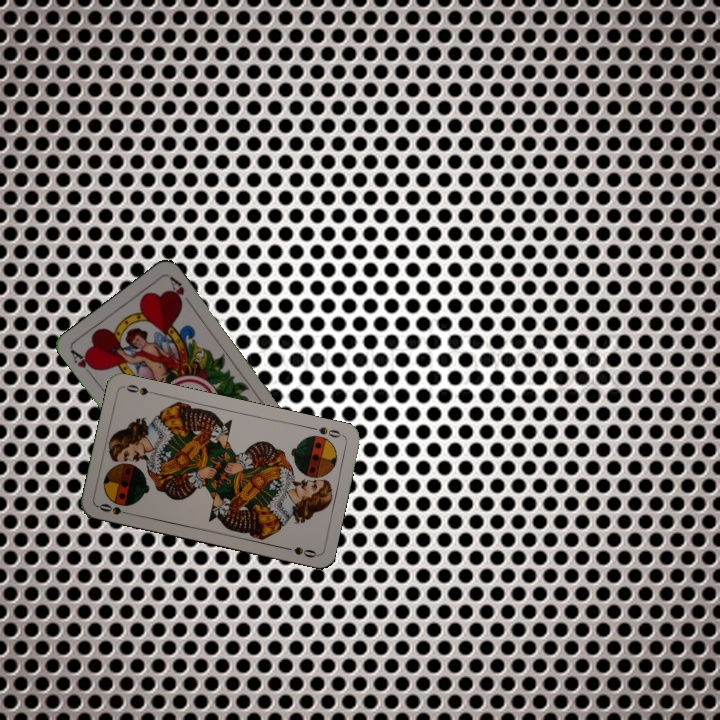HA: (66, 345, 99, 380)
SO: (95, 499, 135, 518), (305, 422, 345, 441)
